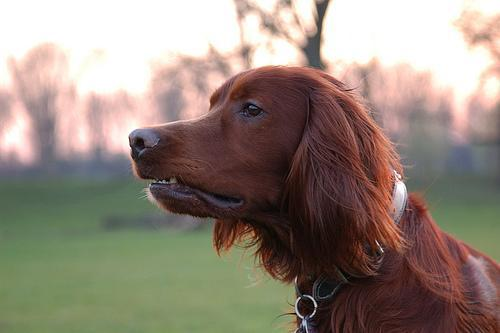Irish_setter: (126, 62, 499, 332)
